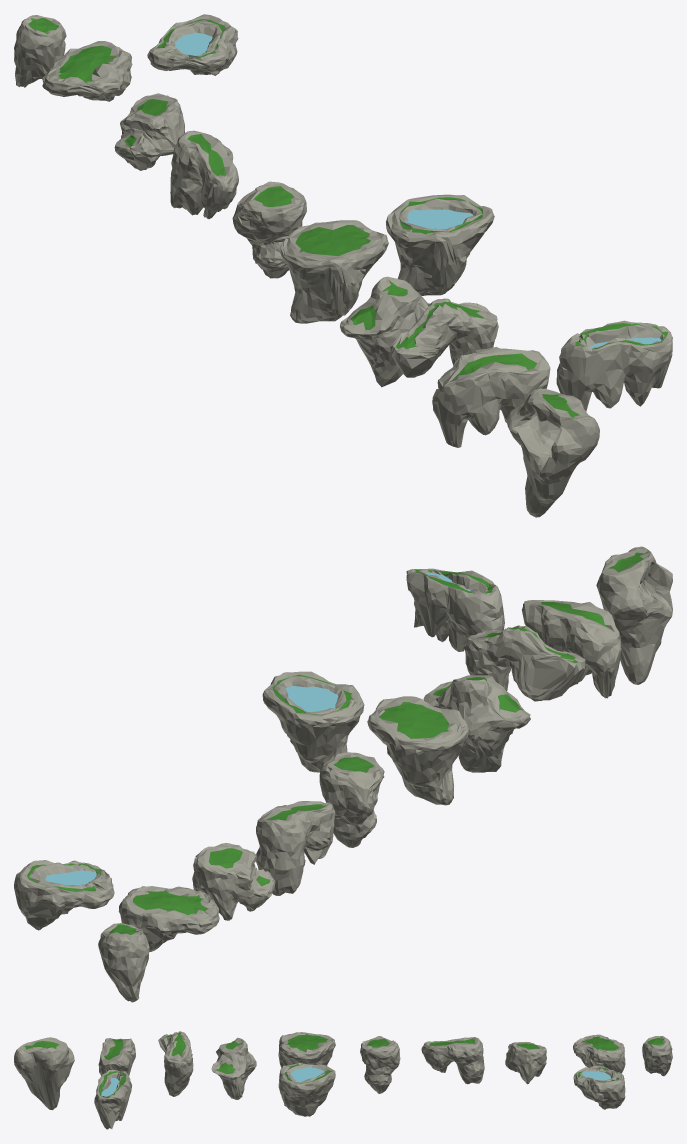
Rendered from Floating_Islands.fbx.
3 views of the same model, one above another, from view 1: azimuth 30°, elevation 25°; view 2: azimuth 150°, elevation 25°; view 3: azimuth 270°, elevation 25° (orthographic). The views are drawn at different scales.
Visible parts, largest first — view 1: Floating_Island_07, Floating_Island_13, Floating_Island_10, Floating_Island_11, Floating_Island_12, Floating_Island_09, Floating_Island_08, Floating_Island_04, Floating_Island_06, Floating_Island_02, Floating_Island_03, Floating_Island_05 (+2 smaller); view 2: Floating_Island_07, Floating_Island_11, Floating_Island_09, Floating_Island_13, Floating_Island_12, Floating_Island_08, Floating_Island_10, Floating_Island_04, Floating_Island_02, Floating_Island_05, Floating_Island_06, Floating_Island_03 (+2 smaller); view 3: Floating_Island_11, Floating_Island_12, Floating_Island_04, Floating_Island_08, Floating_Island_07, Floating_Island_06, Floating_Island_09, Floating_Island_05, Floating_Island_13, Floating_Island_02, Floating_Island_03, Floating_Island_10 (+3 smaller).
Boxes of the visible parts, x1=… form: Floating_Island_07: x1=280, y1=220, x2=388, y2=323; Floating_Island_13: x1=556, y1=320, x2=672, y2=411; Floating_Island_10: x1=432, y1=347, x2=550, y2=447; Floating_Island_11: x1=506, y1=388, x2=599, y2=517; Floating_Island_12: x1=386, y1=194, x2=494, y2=295; Floating_Island_09: x1=390, y1=298, x2=498, y2=377; Floating_Island_08: x1=340, y1=276, x2=430, y2=387; Floating_Island_04: x1=170, y1=130, x2=238, y2=219; Floating_Island_06: x1=232, y1=181, x2=306, y2=278; Floating_Island_02: x1=42, y1=41, x2=132, y2=101; Floating_Island_03: x1=114, y1=93, x2=184, y2=170; Floating_Island_05: x1=147, y1=14, x2=238, y2=75; Floating_Island_07: x1=367, y1=696, x2=468, y2=805; Floating_Island_11: x1=596, y1=546, x2=672, y2=684; Floating_Island_09: x1=464, y1=625, x2=585, y2=701; Floating_Island_13: x1=406, y1=568, x2=504, y2=651; Floating_Island_12: x1=262, y1=671, x2=364, y2=772; Floating_Island_08: x1=423, y1=675, x2=530, y2=772; Floating_Island_10: x1=522, y1=600, x2=621, y2=698; Floating_Island_04: x1=256, y1=801, x2=335, y2=895; Floating_Island_02: x1=118, y1=886, x2=219, y2=951; Floating_Island_05: x1=14, y1=860, x2=114, y2=930; Floating_Island_06: x1=319, y1=752, x2=384, y2=847; Floating_Island_03: x1=192, y1=843, x2=275, y2=920; Floating_Island_11: x1=14, y1=1037, x2=74, y2=1110; Floating_Island_12: x1=278, y1=1063, x2=335, y2=1116; Floating_Island_04: x1=421, y1=1037, x2=484, y2=1084; Floating_Island_08: x1=211, y1=1037, x2=256, y2=1099; Floating_Island_07: x1=278, y1=1032, x2=335, y2=1067; Floating_Island_06: x1=360, y1=1036, x2=400, y2=1093; Floating_Island_09: x1=158, y1=1031, x2=193, y2=1096; Floating_Island_05: x1=573, y1=1065, x2=625, y2=1109; Floating_Island_13: x1=94, y1=1069, x2=132, y2=1129; Floating_Island_02: x1=573, y1=1034, x2=625, y2=1073; Floating_Island_03: x1=505, y1=1042, x2=546, y2=1084; Floating_Island_10: x1=98, y1=1038, x2=135, y2=1075.
Size of the model in its own units: 1071 by 603 by 4513.
